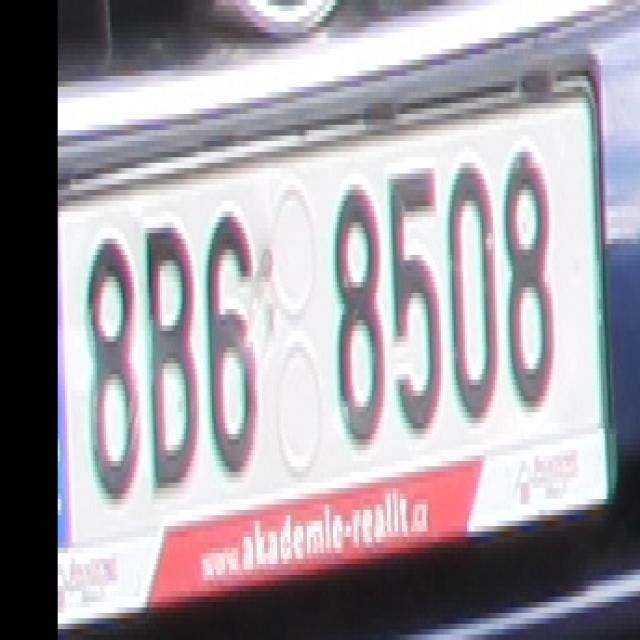0: (448, 157, 502, 418)
5: (387, 163, 441, 434)
6: (207, 212, 260, 478)
8: (86, 228, 142, 504), (333, 173, 385, 444), (506, 146, 554, 412)
B: (143, 217, 197, 494)
